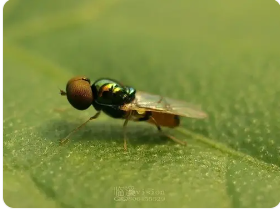liriomyza: (57, 74, 208, 155)
